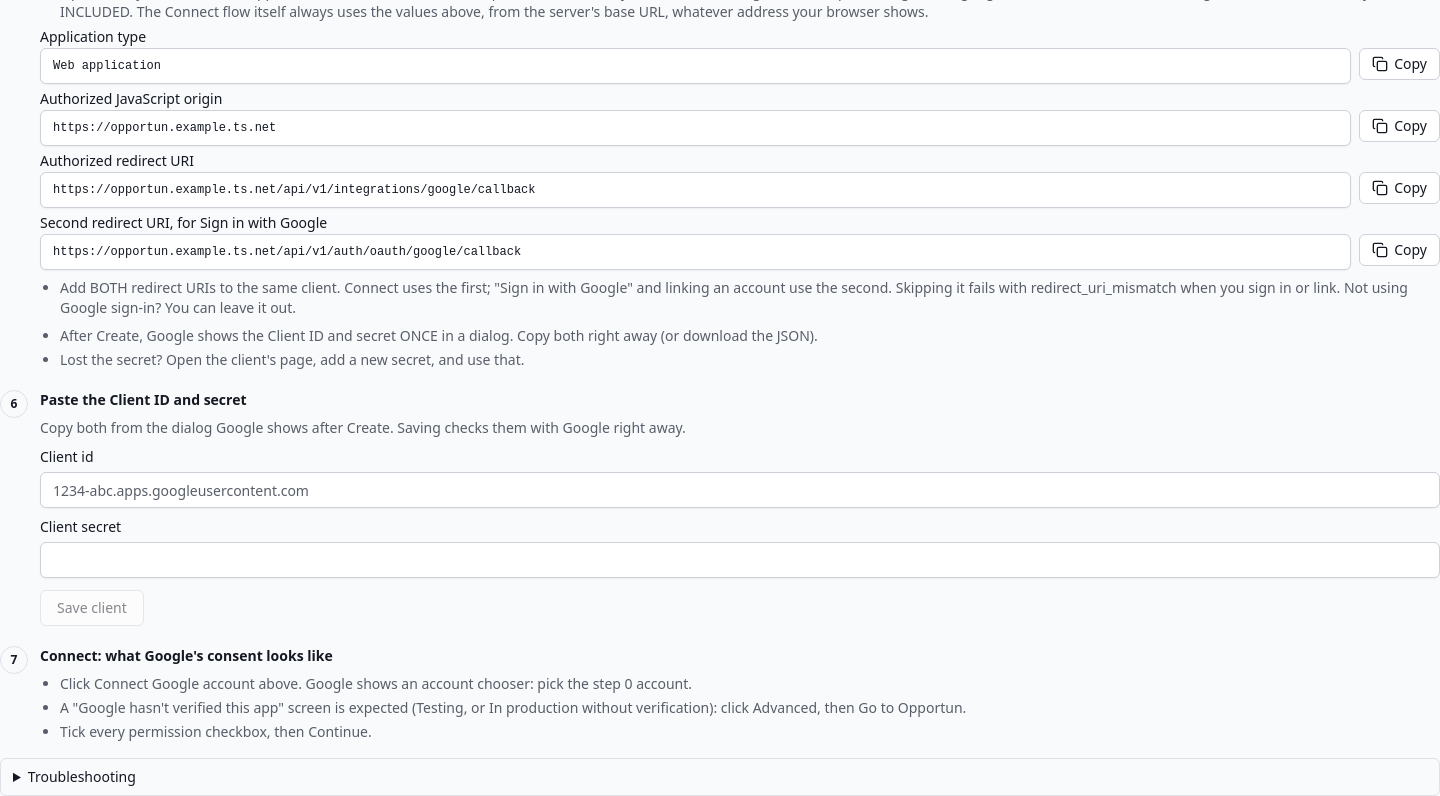
Test: GoogleSetupGuide › save shows Unverified in yellow with a retry that revalidates
The image size is (1440, 796).
(page scrolled)
In the field labelled "Client id": (740, 490) [40, 472, 1439, 508], type "x.apps.googleusercontent.com"
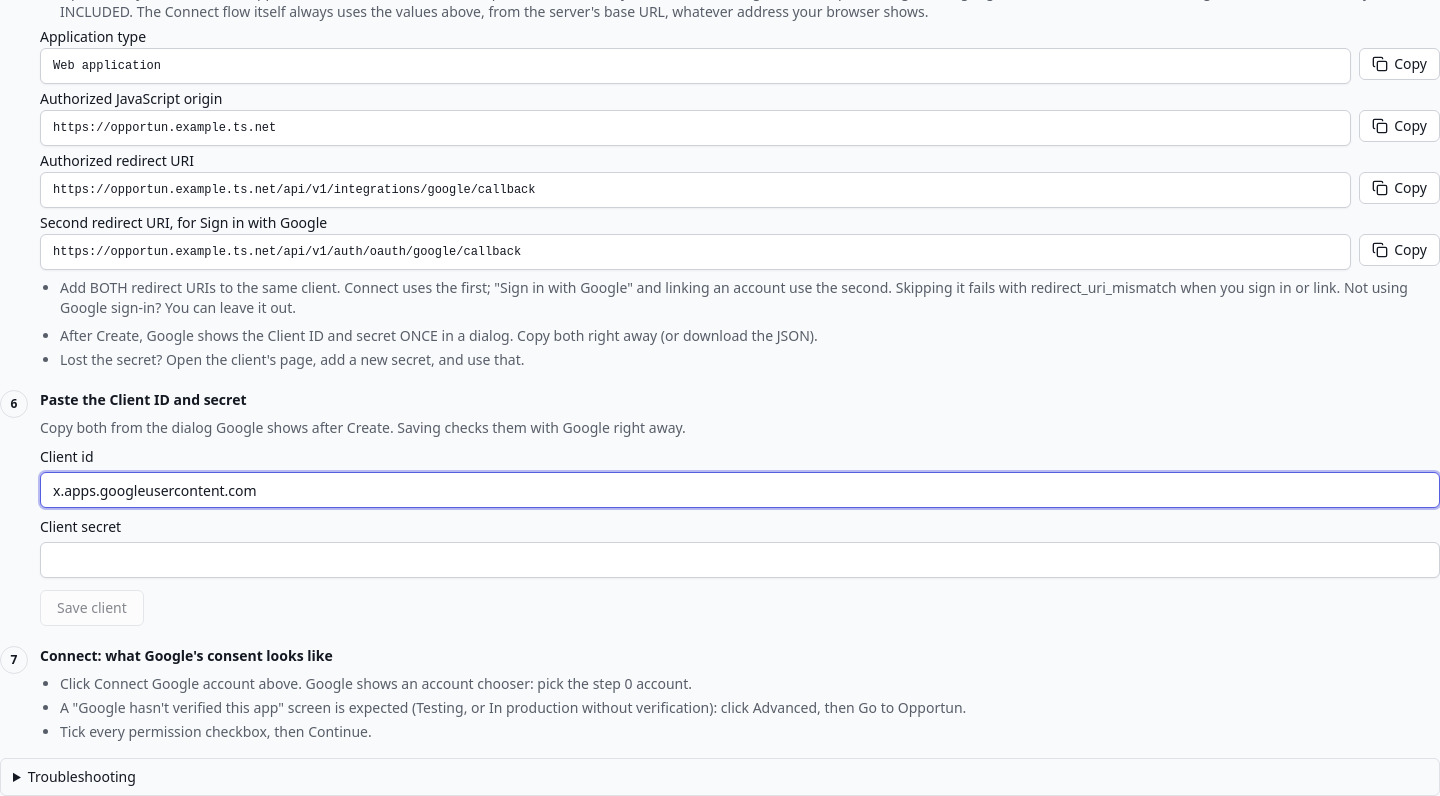
In the password field labelled "Client secret": (740, 560) [40, 542, 1439, 578], type "GOCSPX-abc"
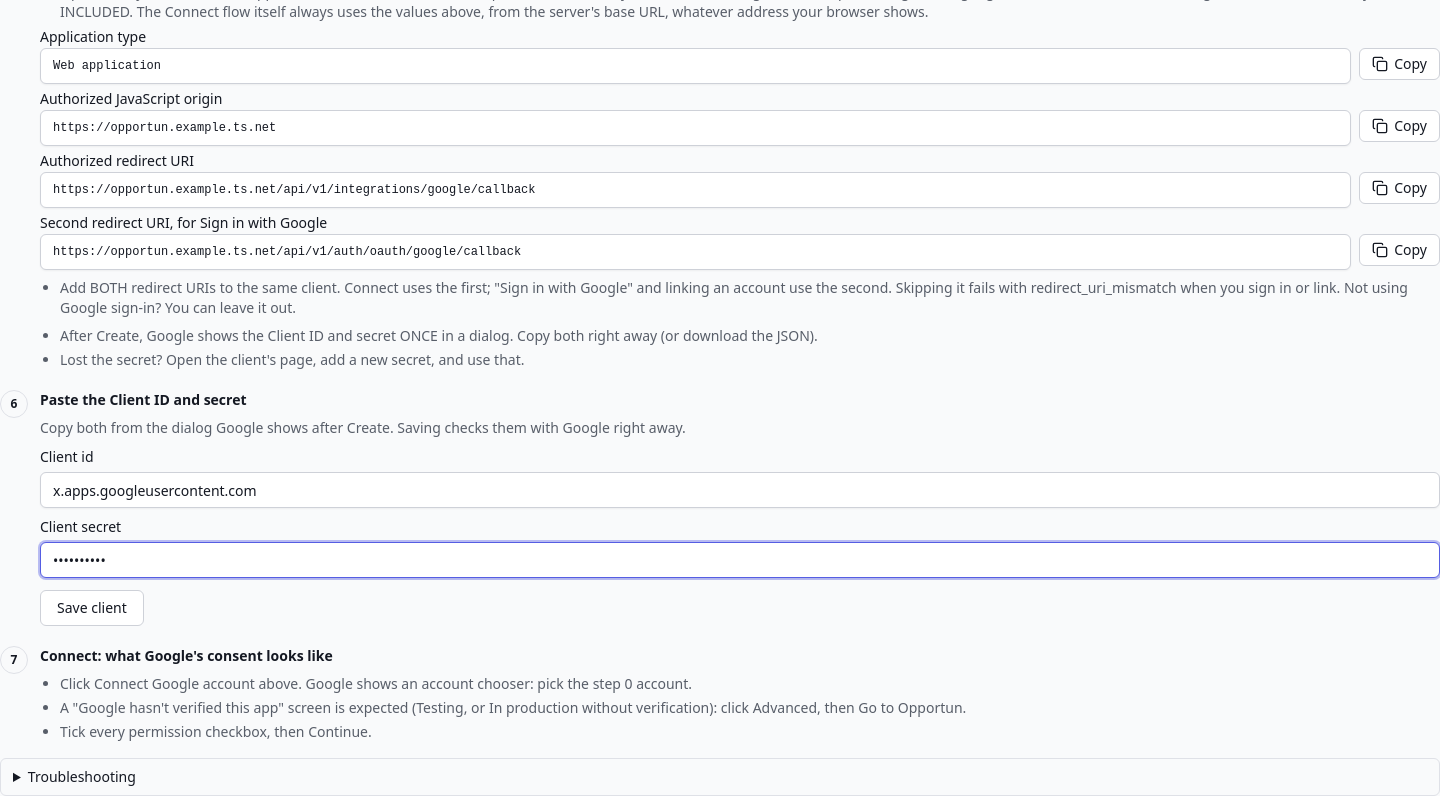
Click the button "Save client": (92, 608) [40, 590, 144, 626]
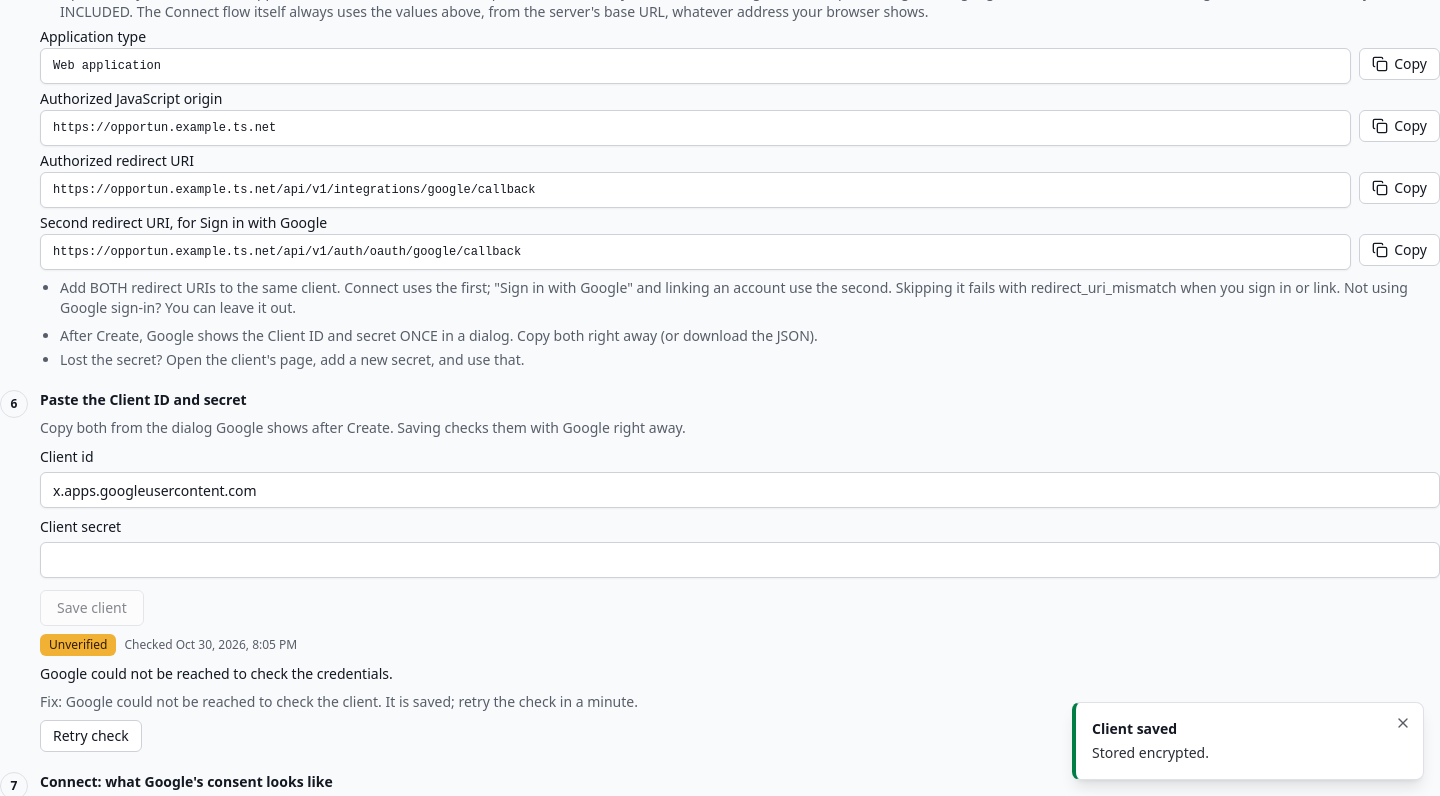
Check: the text "Google could not be reached to check the credentials." is shown, box [40, 664, 393, 683]
Check: the text "Fix: Google could not be reached" is shown, box [40, 692, 638, 711]
Click the button "Retry check": (91, 736) [40, 720, 142, 752]
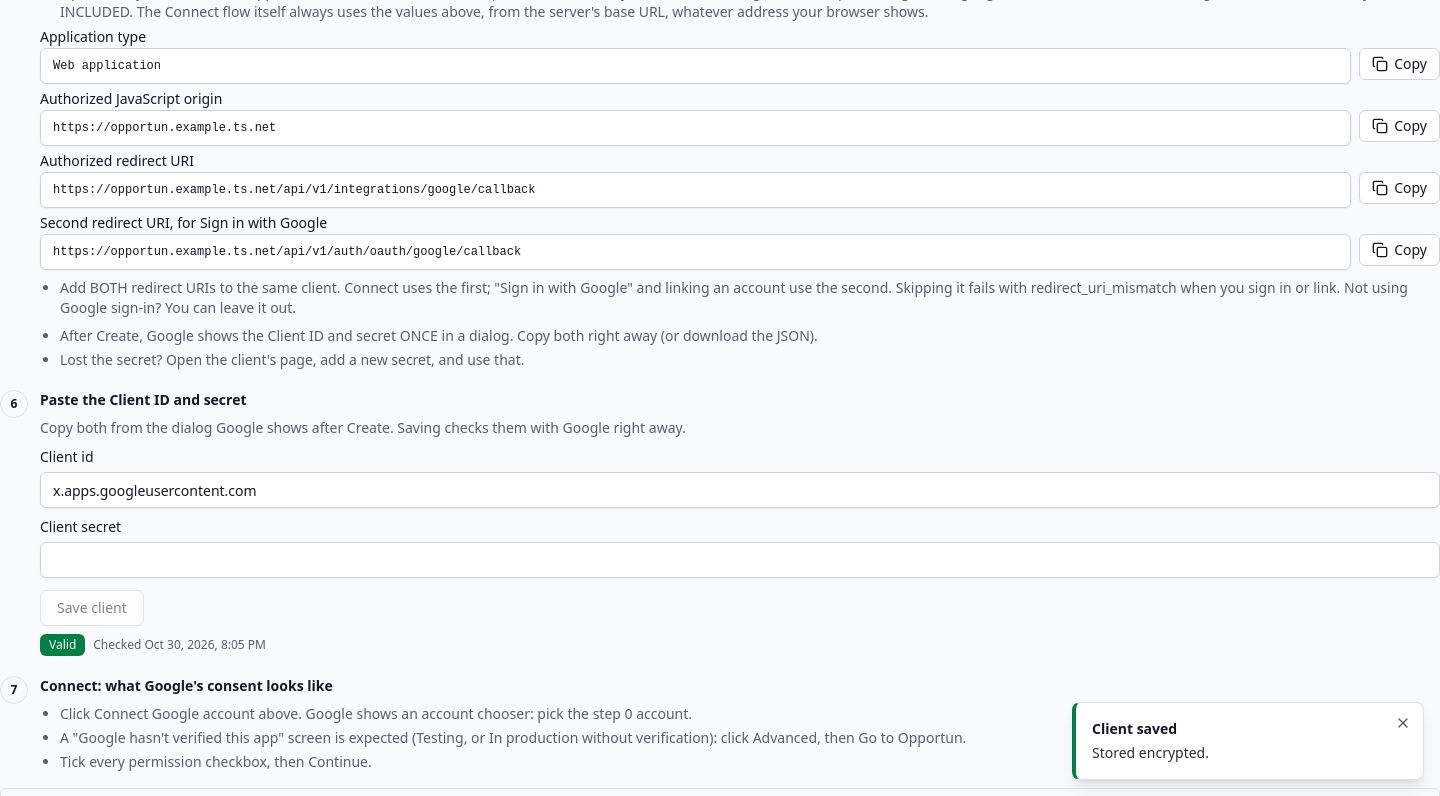
Check: the text "Valid" is shown, box [40, 634, 85, 656]
